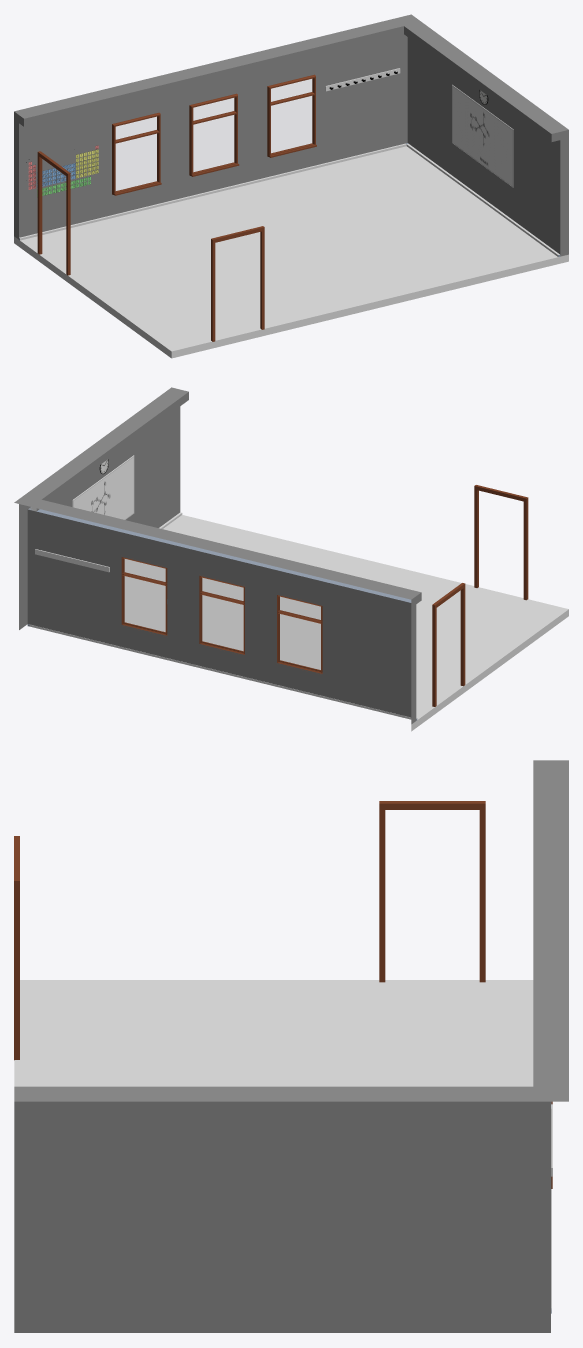
Rendered from Aula5.fbx.
The picture shows the model from 3 angles, top to bottom: view 1: azimuth 30°, elevation 25°; view 2: azimuth 150°, elevation 25°; view 3: azimuth 270°, elevation 25°; orthographic projection. The views are drawn at different scales.
Parts seen in each view (by area): view 1: Laboratorio5_Base; view 2: Laboratorio5_Base; view 3: Laboratorio5_Base.
Part boxes in pixels (box(x1,y1,x2,y2)): Laboratorio5_Base: box(14, 14, 568, 358); Laboratorio5_Base: box(14, 387, 568, 731); Laboratorio5_Base: box(14, 760, 568, 1332).
Bounding box in the file's own units: 4545 × 1440 × 3123.
11 materials, 3 textured.
